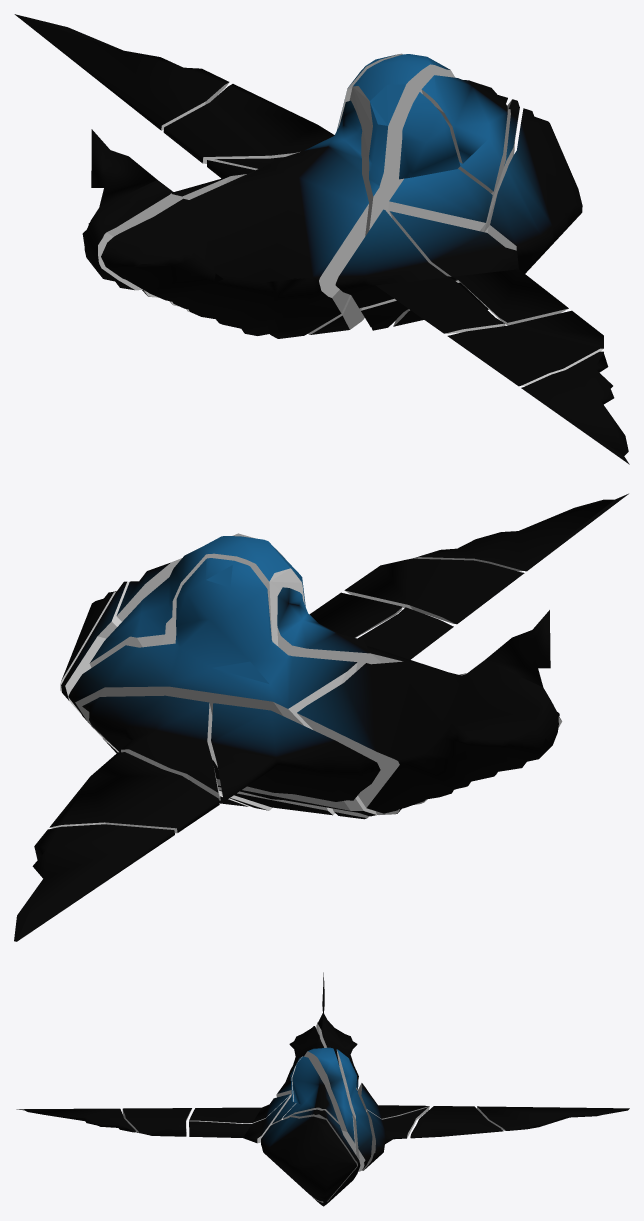
File: Airplanes.glb
3 views of the same model, one above another, from view 1: azimuth 30°, elevation 25°; view 2: azimuth 150°, elevation 25°; view 3: azimuth 270°, elevation 25° (orthographic). The views are drawn at different scales.
Parts seen in each view (by area): view 1: Root.004, Root.003, Root.005, Root.007, Root.012, Root.014, Root.013, Root.006, Root, Root.009, Root.015, Root.001 (+1 smaller); view 2: Root, Root.008, Root.002, Root.010, Root.012, Root.014, Root.006, Root.009, Root.001, Root.004, Root.005, Root.013 (+3 smaller); view 3: Root.003, Root.014, Root.006, Root.012, Root.015, Root.009, Root.008, Root.013, Root.010, Root.005, Root.001, Root (+3 smaller).
Boxes of the visible parts, <box> form: Root.004: <box>101,100,368,338</box>; Root.003: <box>484,108,582,273</box>; Root.005: <box>335,209,505,333</box>; Root.007: <box>361,92,492,330</box>; Root.012: <box>308,54,454,334</box>; Root.014: <box>14,14,229,130</box>; Root.013: <box>389,211,568,325</box>; Root.006: <box>163,84,334,163</box>; Root: <box>82,129,246,312</box>; Root.009: <box>447,310,603,386</box>; Root.015: <box>421,75,507,193</box>; Root.001: <box>521,351,629,464</box>; Root: <box>297,610,558,813</box>; Root.008: <box>68,558,376,816</box>; Root.002: <box>211,703,380,801</box>; Root.010: <box>82,695,220,800</box>; Root.012: <box>89,536,334,815</box>; Root.014: <box>14,824,174,941</box>; Root.006: <box>49,752,219,833</box>; Root.009: <box>344,558,524,624</box>; Root.001: <box>412,493,628,571</box>; Root.004: <box>277,587,561,819</box>; Root.005: <box>357,607,453,659</box>; Root.013: <box>309,592,402,637</box>; Root.003: <box>261,1116,356,1202</box>; Root.014: <box>477,1106,629,1130</box>; Root.006: <box>410,1106,503,1138</box>; Root.012: <box>304,1047,356,1154</box>; Root.015: <box>282,1056,338,1122</box>; Root.009: <box>122,1108,191,1136</box>; Root.008: <box>336,1049,372,1171</box>; Root.013: <box>189,1096,289,1143</box>; Root.010: <box>362,1107,428,1170</box>; Root.005: <box>189,1094,291,1123</box>; Root.001: <box>16,1108,135,1132</box>; Root: <box>316,972,358,1090</box>.
Size of the model in its own units: 7.41 by 4.3 by 16.8.
